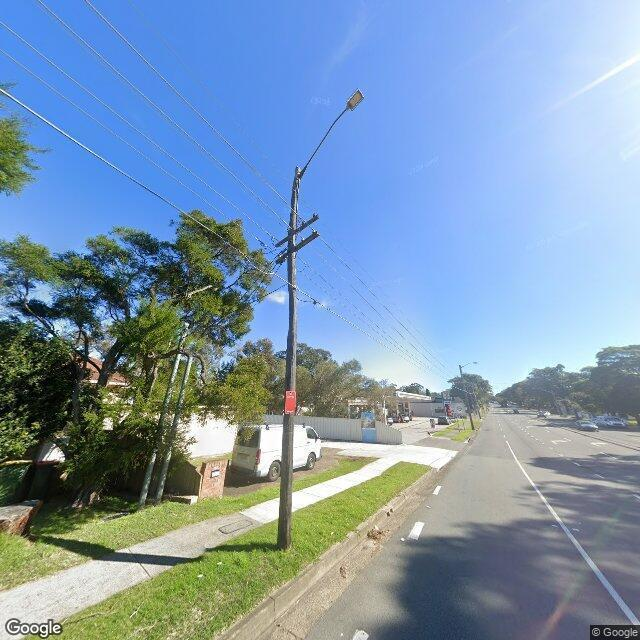crossarm: (274, 231, 322, 266), (275, 214, 320, 248)
streetlight: (297, 88, 366, 184), (462, 361, 478, 368)
timber-pole: (276, 167, 303, 548), (458, 365, 474, 430)
